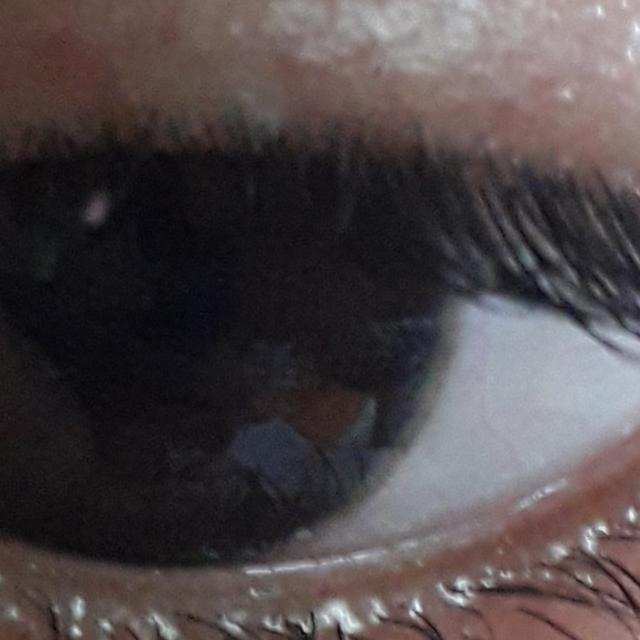eye: (0, 192, 640, 612)
iris: (0, 212, 489, 572)
